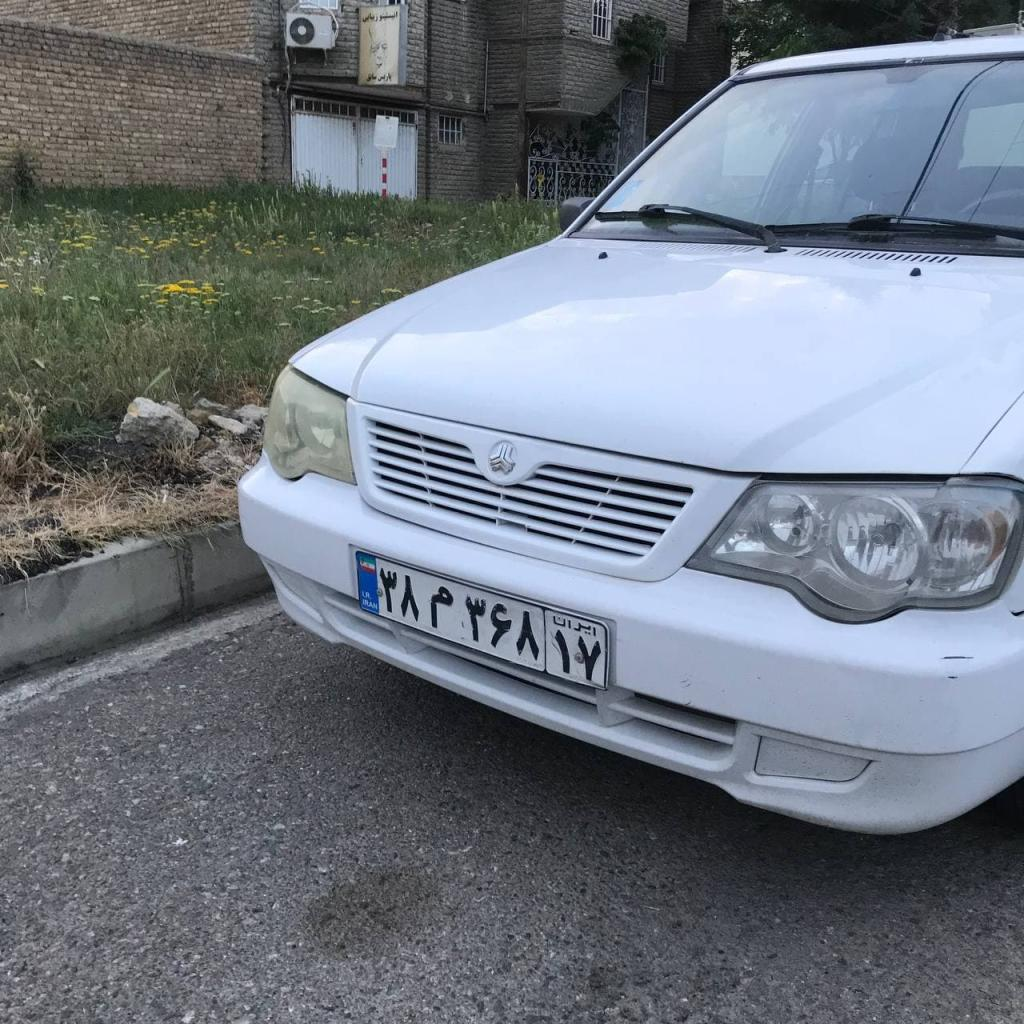Plates: (355, 551, 607, 690)
